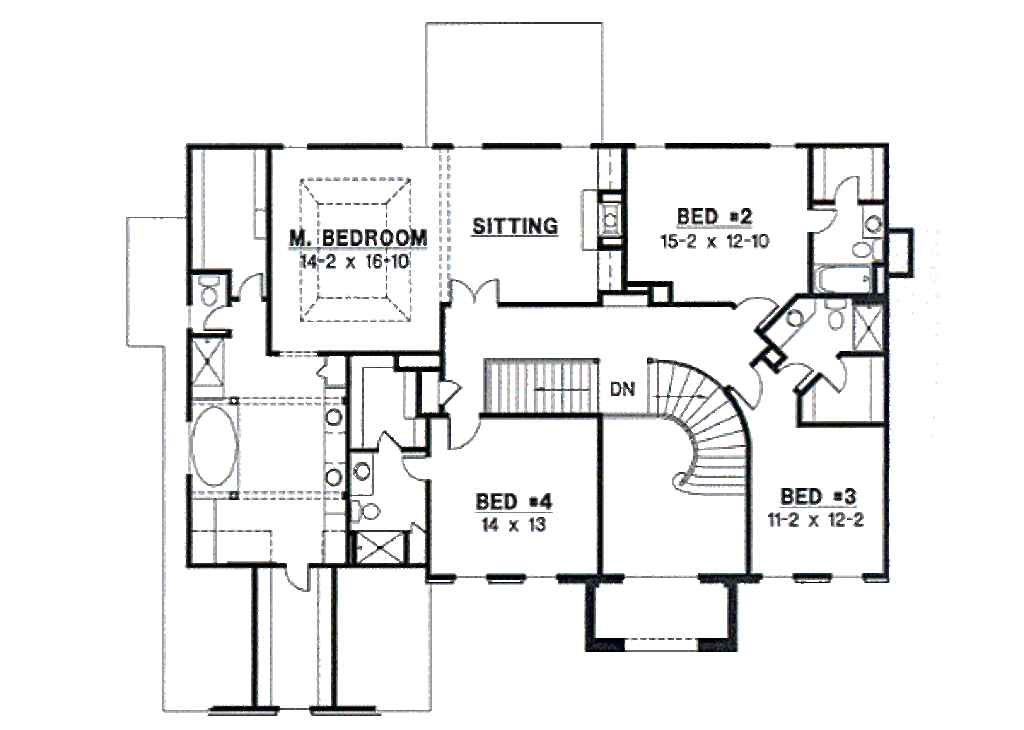door: (445, 275, 505, 309), (733, 288, 778, 328), (816, 356, 847, 395), (231, 270, 267, 303), (778, 357, 811, 393), (807, 206, 845, 237), (829, 171, 862, 203), (281, 562, 316, 592), (202, 306, 235, 333)
large_sink: (345, 496, 383, 526), (195, 271, 223, 310), (818, 295, 846, 331)
small_sink: (322, 402, 347, 495), (347, 453, 376, 499)
stairs: (646, 358, 751, 495), (474, 355, 600, 414)
tub: (190, 397, 242, 495), (812, 262, 875, 300)
windows: (619, 634, 703, 655)
